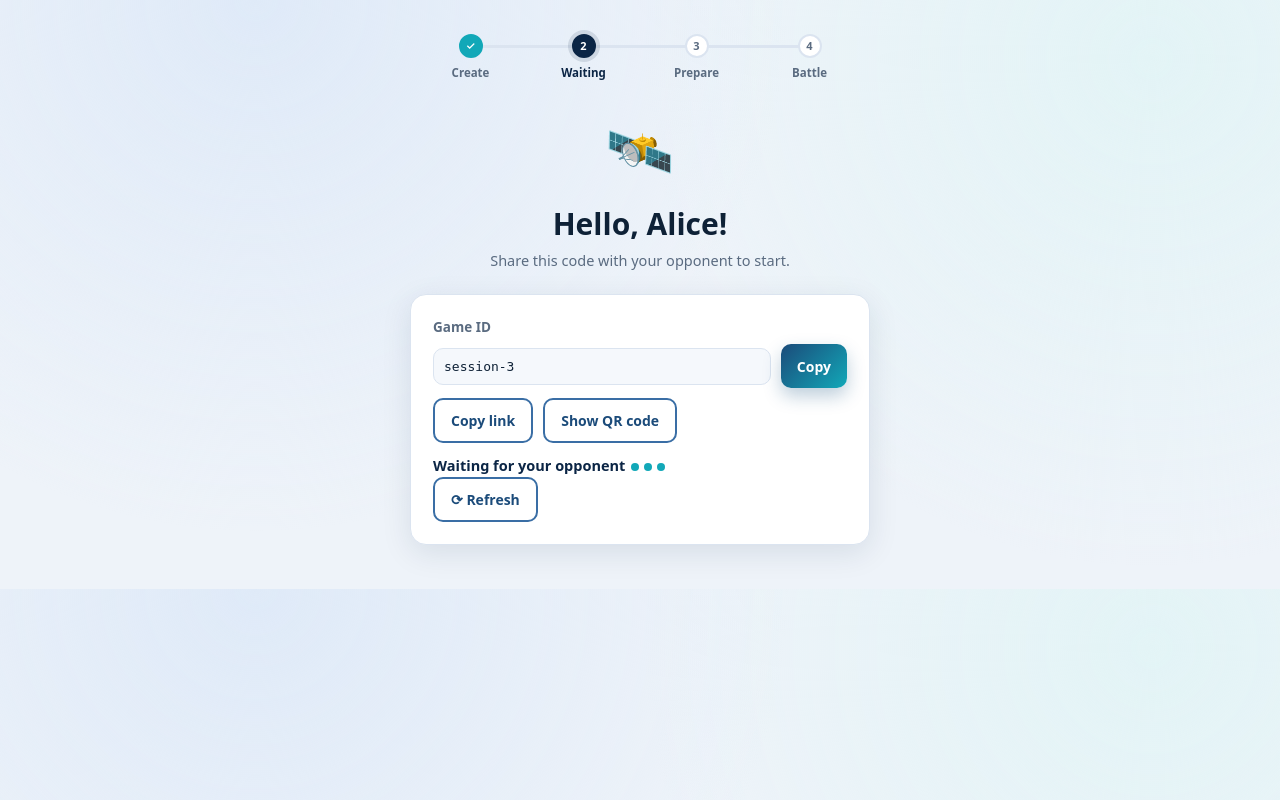
Test: WaitScreen › copies the session id and shows the "copied" toast when Copy is clicked
This screenshot has width=1280, height=800.
Expected: the heading "Hello, Alice!" is shown, [553,203,727,244]
What coordinates should you click on to do the following:
click the button "Copy"
I would click on:
 (814, 366)
Its box is [781,344,847,388].
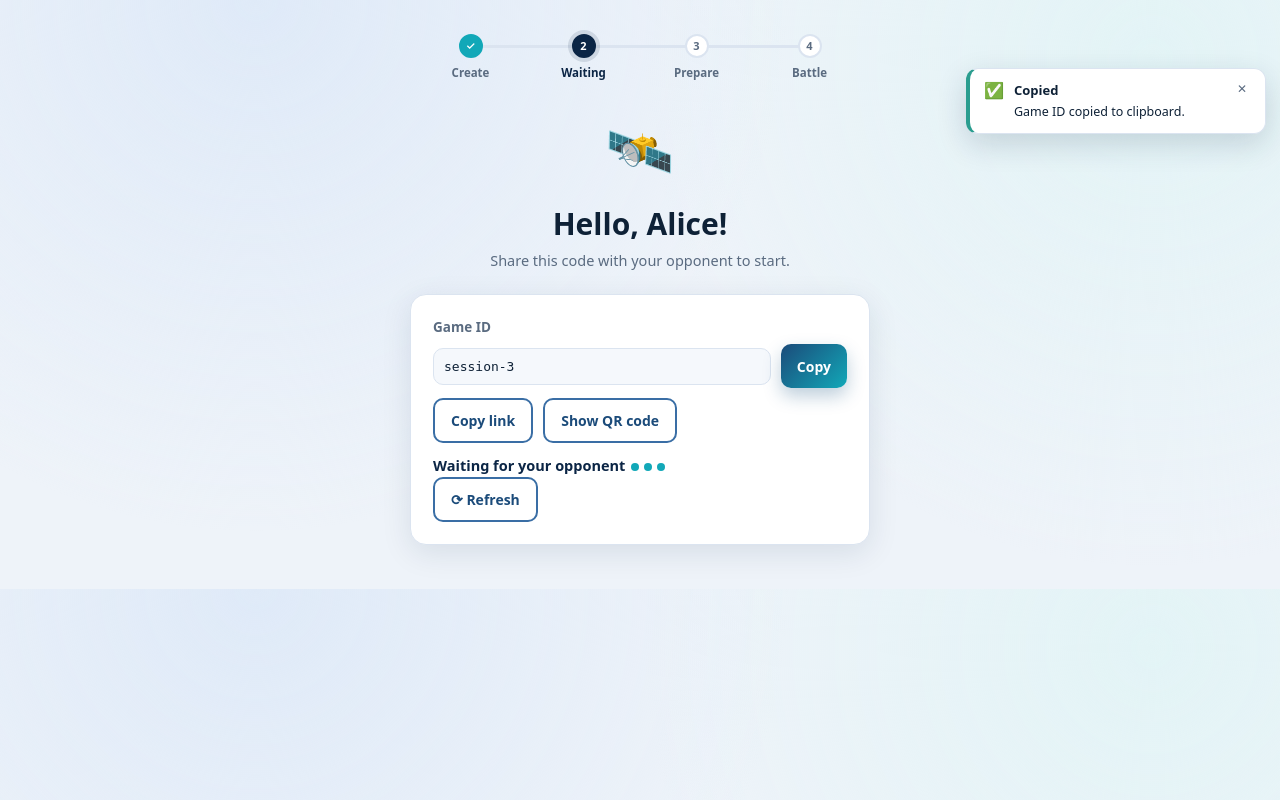
Expected: the text "Game ID copied to clipboard." is shown, [1014,102,1185,120]
